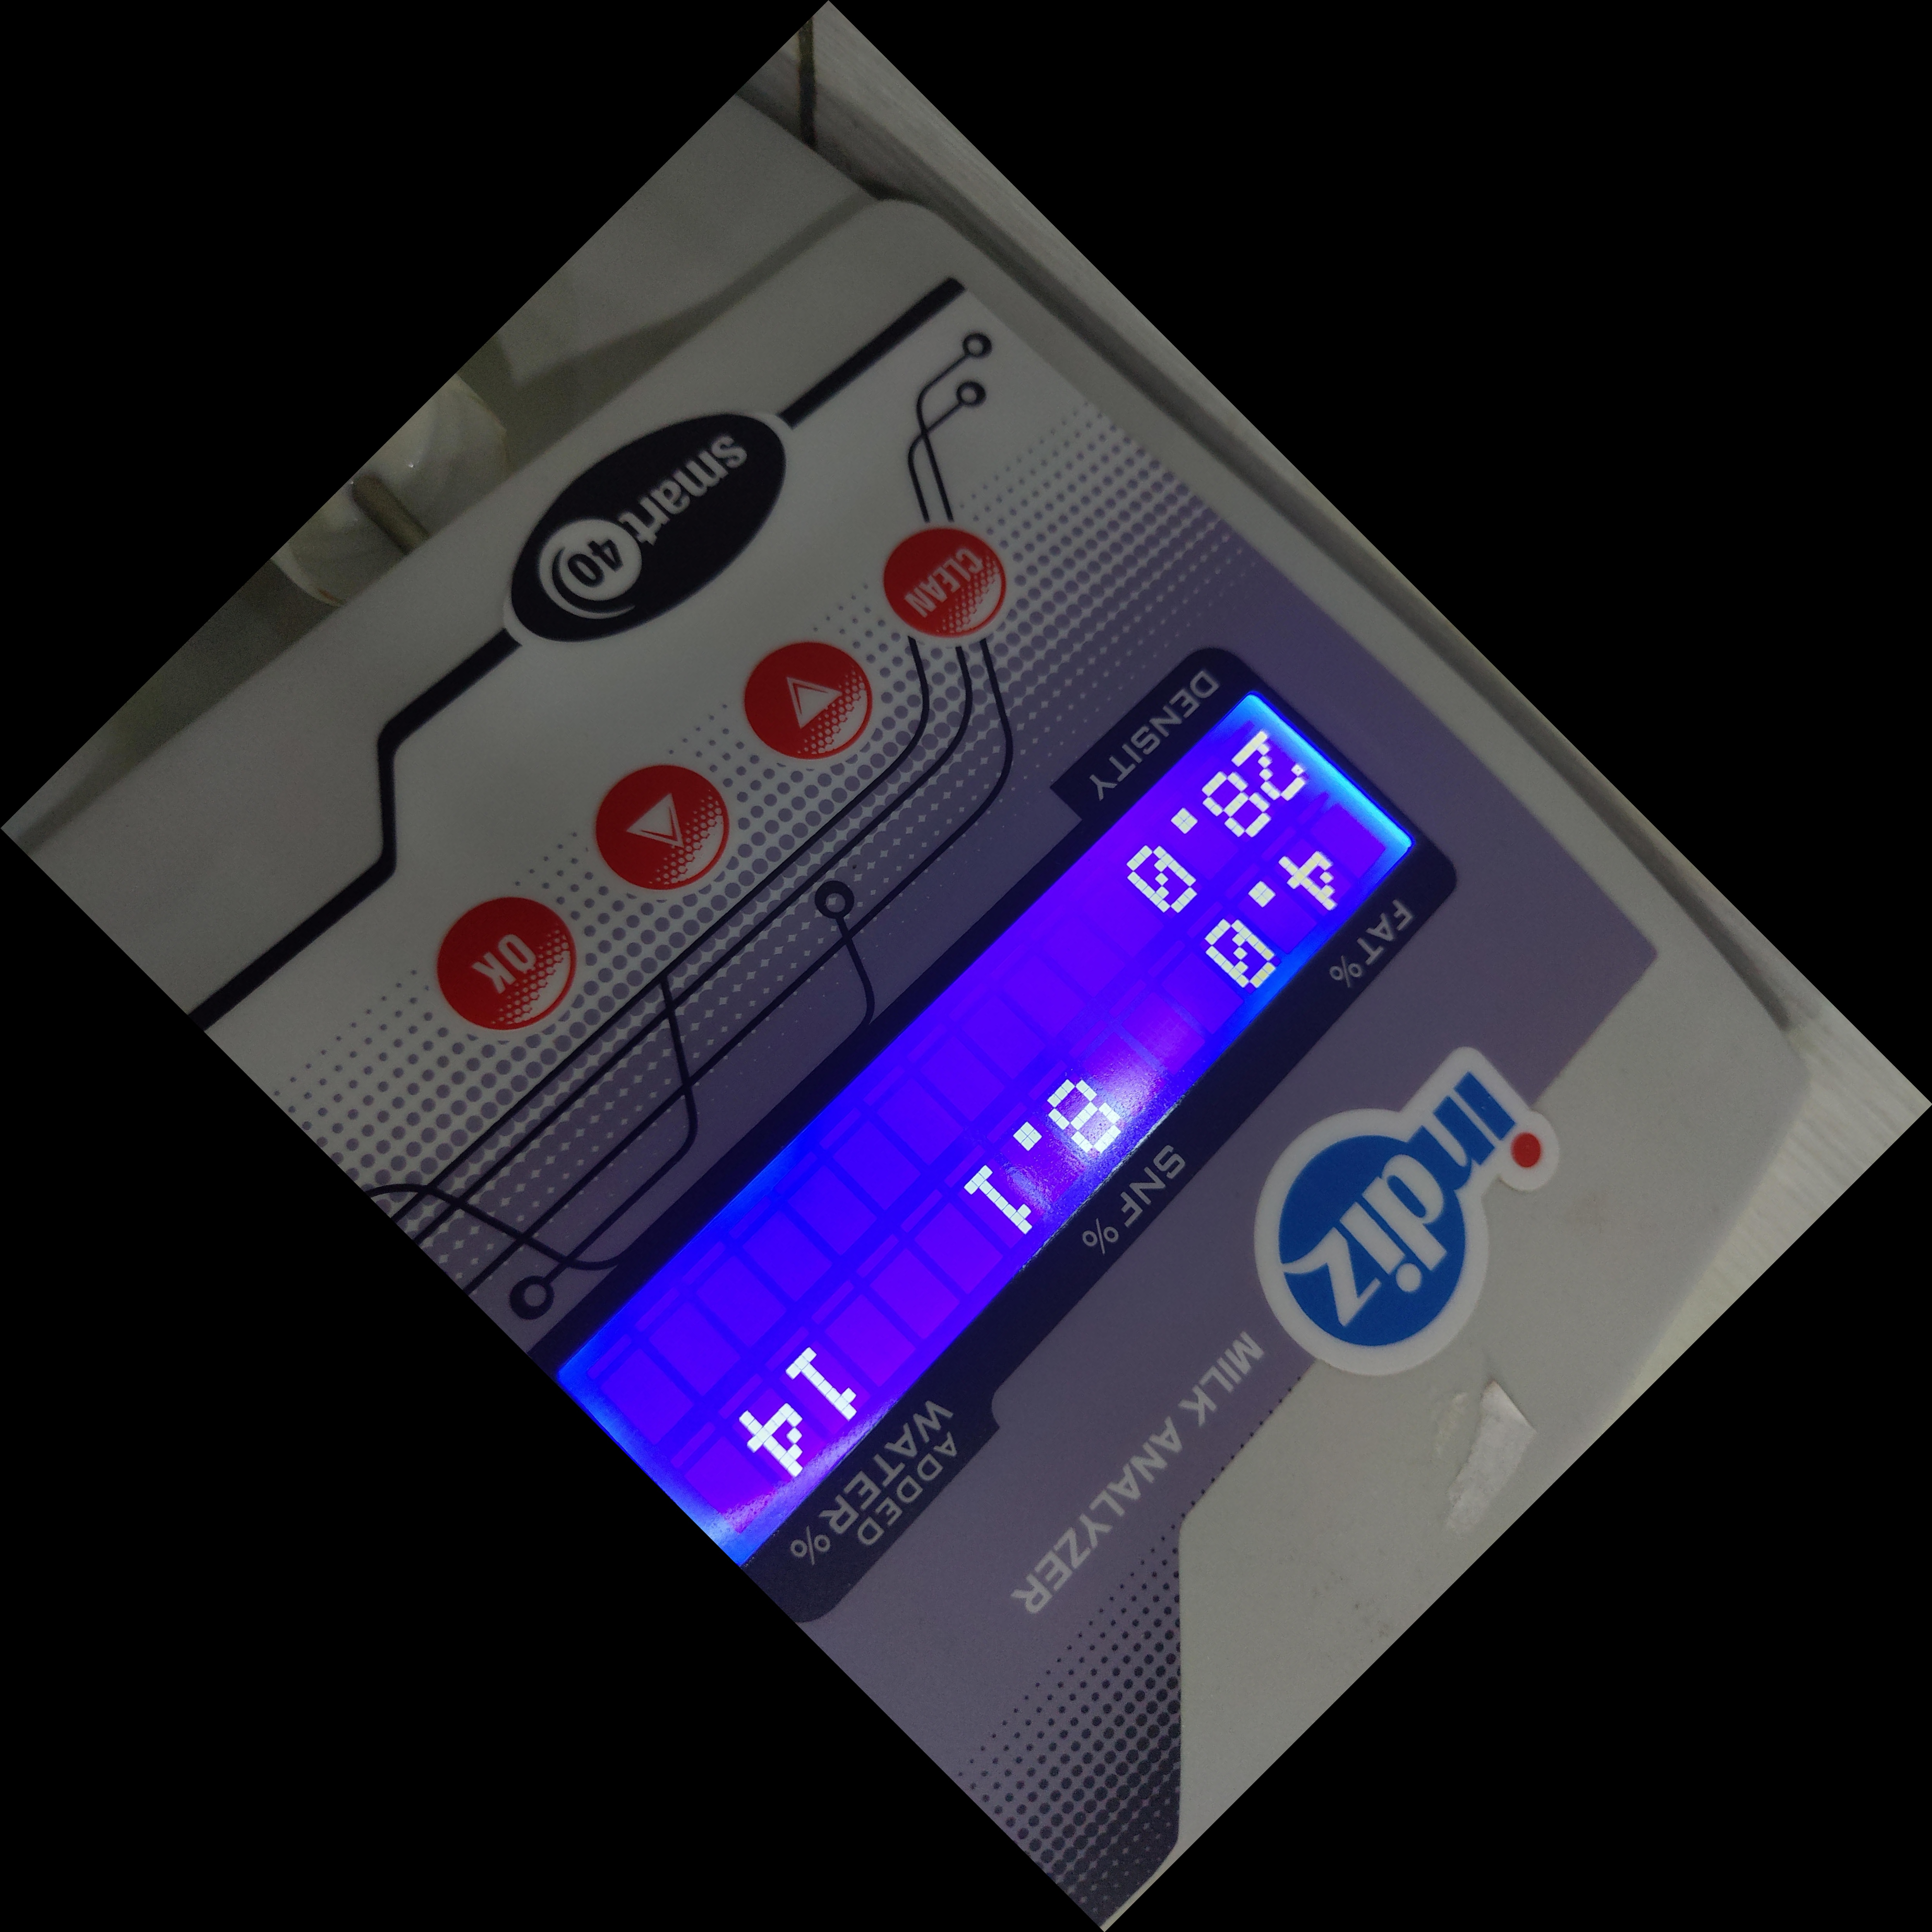lcd: (490, 669, 1461, 1580)
